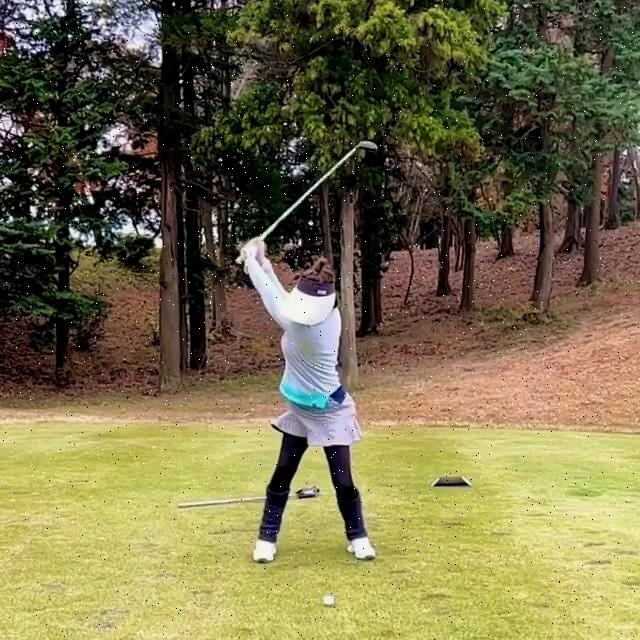golf ball: (323, 595, 335, 605)
golf club-handle: (235, 140, 377, 265)
golf club-head: (358, 139, 378, 151)
